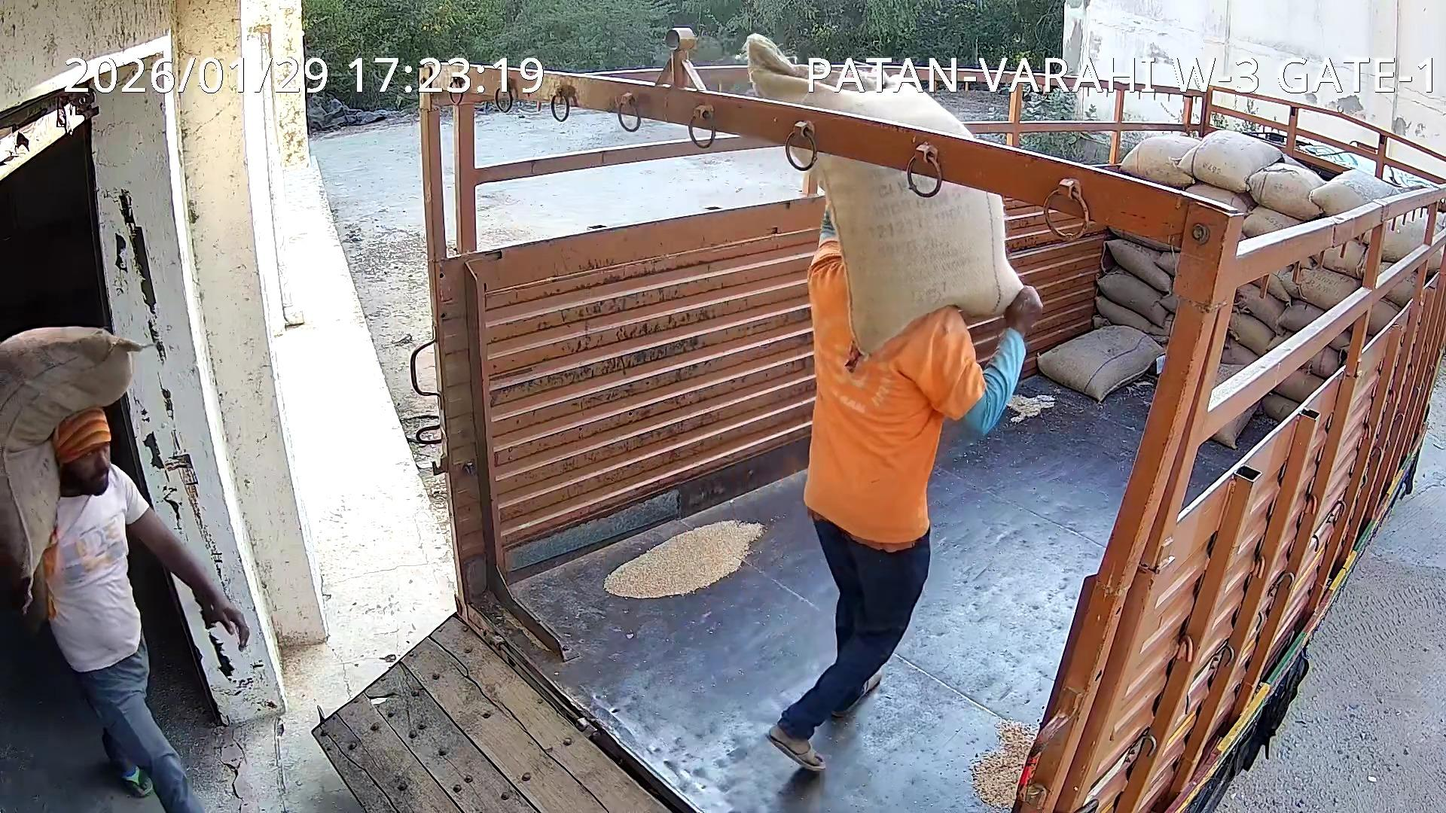Sack: (816, 151, 1020, 355), (0, 327, 141, 569), (750, 38, 974, 142)
